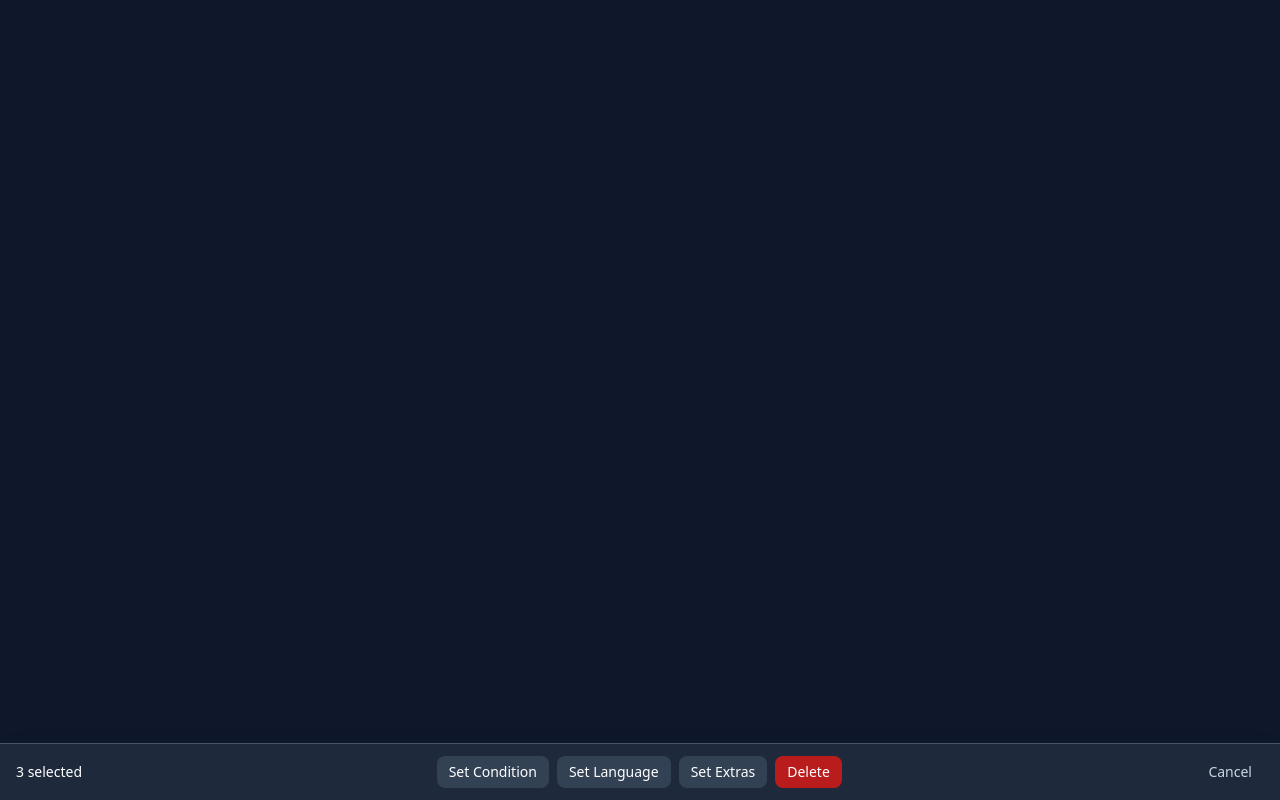
it: BulkActionsToolbar › delete button shows confirmation dialog
Click the button with test id "bulk-delete" at [808, 772], box [775,756,842,788]
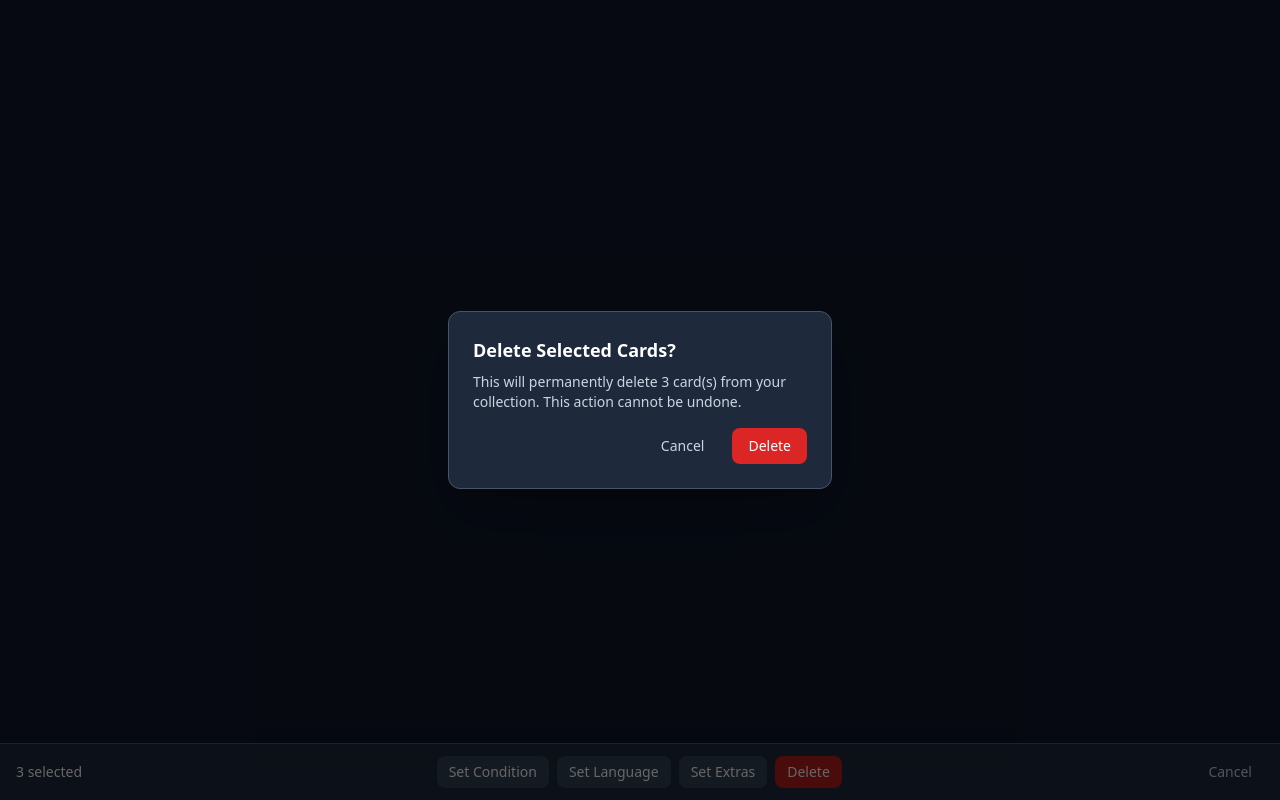
Check: the element with test id "delete-confirm-dialog" is shown
Check: the text "permanently delete 3 card" is shown, box [473,372,786,411]
